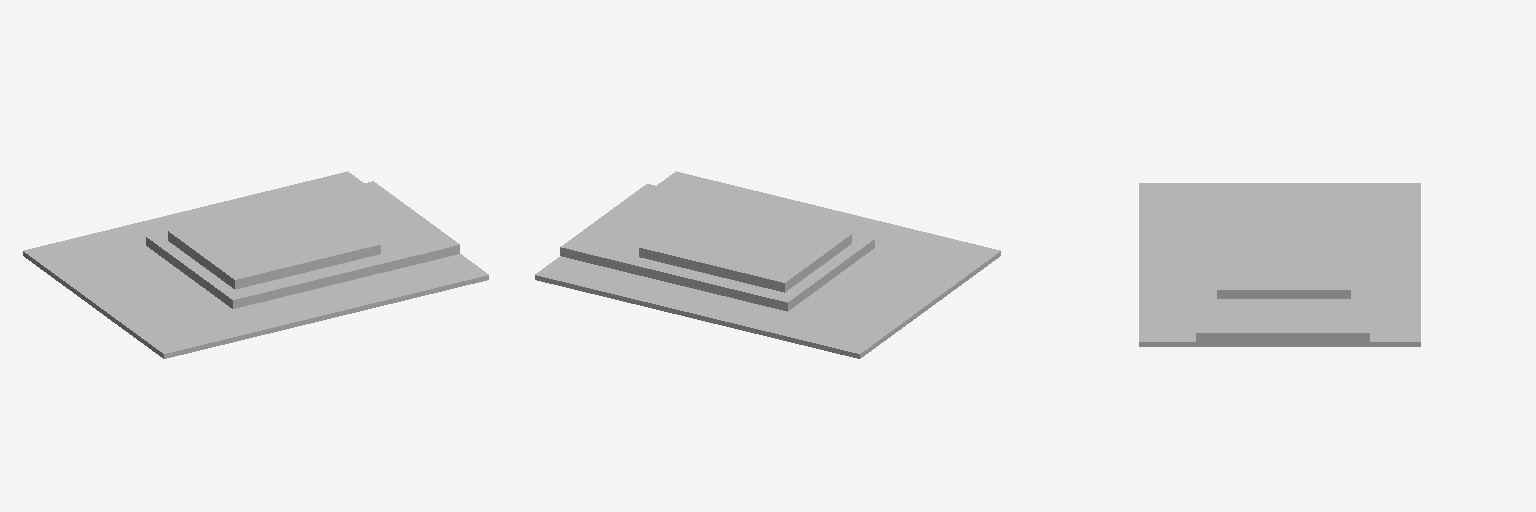
File: WemosD1.obj
The picture shows the model from 3 angles: view 1: azimuth 30°, elevation 25°; view 2: azimuth 150°, elevation 25°; view 3: azimuth 270°, elevation 25°; orthographic projection.
Parts seen in each view (by area): view 1: WemosD1; view 2: WemosD1; view 3: WemosD1.
Boxes of the visible parts, x1,y1,x2,y2 form: WemosD1: [23, 171, 488, 358]; WemosD1: [535, 171, 1000, 358]; WemosD1: [1139, 183, 1420, 346].
Size of the model in its own units: 1.33 by 0.0918 by 1.